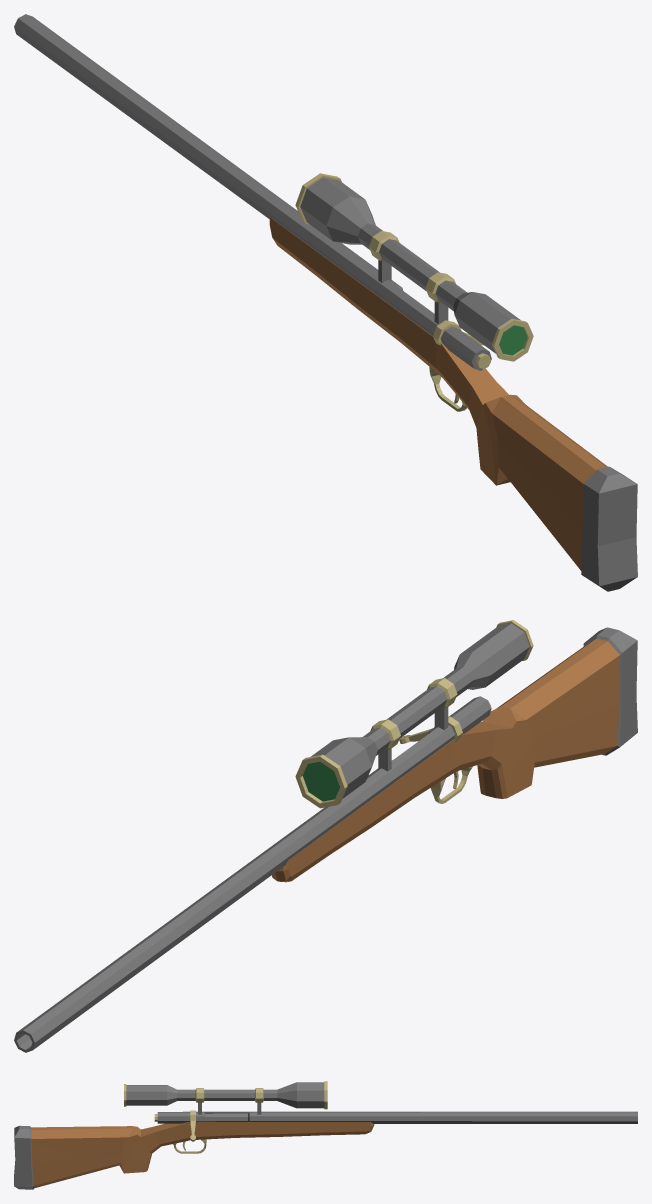
File: TMS-1909.glb
3 renders of one model, top to bottom at view 1: azimuth 30°, elevation 25°; view 2: azimuth 150°, elevation 25°; view 3: azimuth 270°, elevation 25°, orthographic. The views are drawn at different scales.
Visible parts, largest first — view 1: SniperRifle-A, SniperRifle-A_8a9b0a, SniperRifle-A_0a8e2e; view 2: SniperRifle-A, SniperRifle-A_8a9b0a, SniperRifle-A_0a8e2e, SniperRifle-A_0c70b1; view 3: SniperRifle-A, SniperRifle-A_8a9b0a, SniperRifle-A_0a8e2e.
Boxes of the visible parts, bbox=[...] form: SniperRifle-A: bbox=[14, 14, 637, 591]; SniperRifle-A_8a9b0a: bbox=[269, 217, 607, 570]; SniperRifle-A_0a8e2e: bbox=[295, 173, 533, 411]; SniperRifle-A: bbox=[14, 623, 637, 1052]; SniperRifle-A_8a9b0a: bbox=[271, 638, 619, 882]; SniperRifle-A_0a8e2e: bbox=[295, 620, 533, 808]; SniperRifle-A_0c70b1: bbox=[303, 761, 339, 801]; SniperRifle-A: bbox=[14, 1082, 637, 1189]; SniperRifle-A_8a9b0a: bbox=[31, 1121, 374, 1188]; SniperRifle-A_0a8e2e: bbox=[124, 1081, 327, 1153].
Size of the model in its own units: 0.0712 by 0.1882 by 1.
